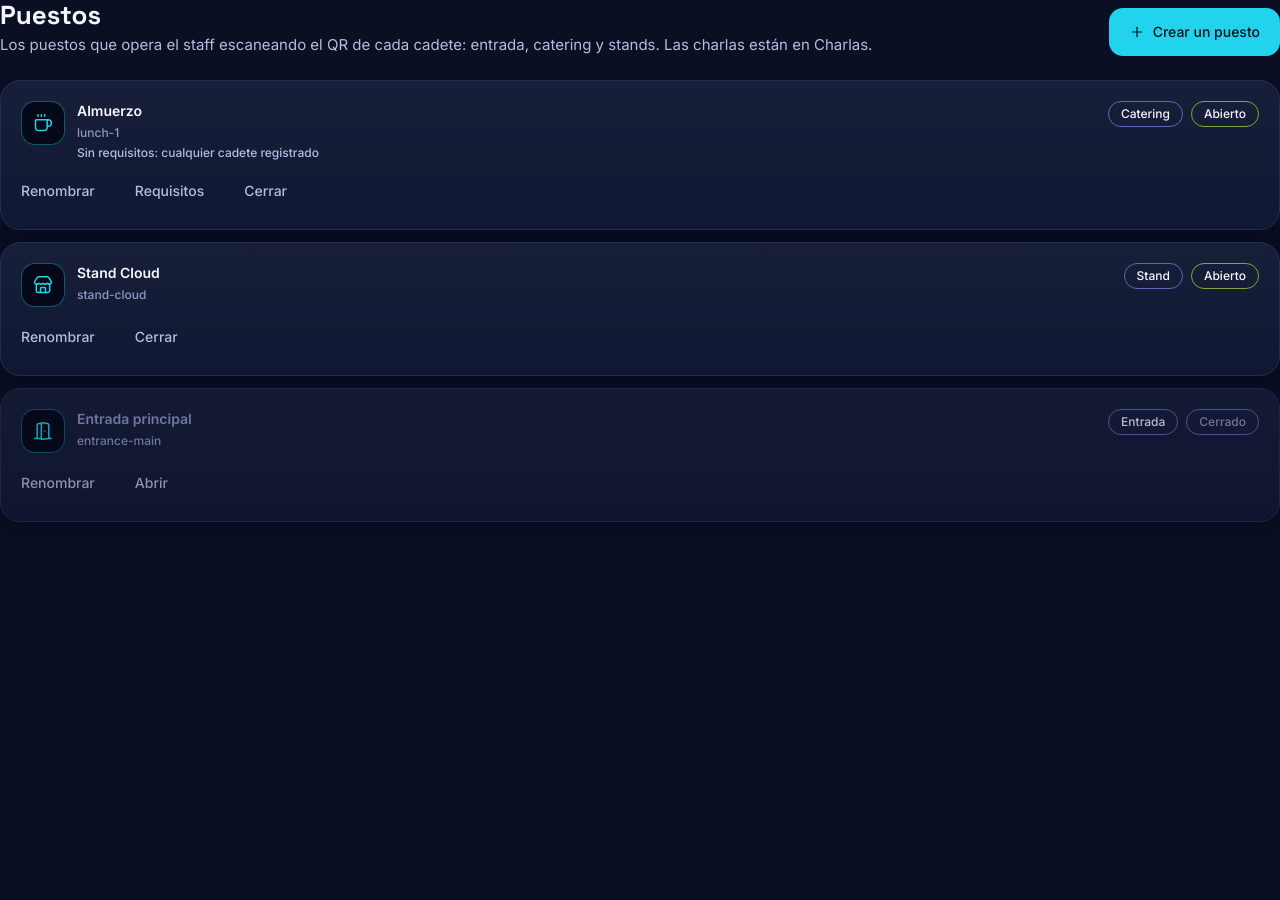
Scenario: CheckpointsAdminView food gates › saves a minimum level from the ladder and a minimum of talks
Click the button "Requisitos".
click(170, 191)  # box x1=119 y1=173 x2=220 y2=209
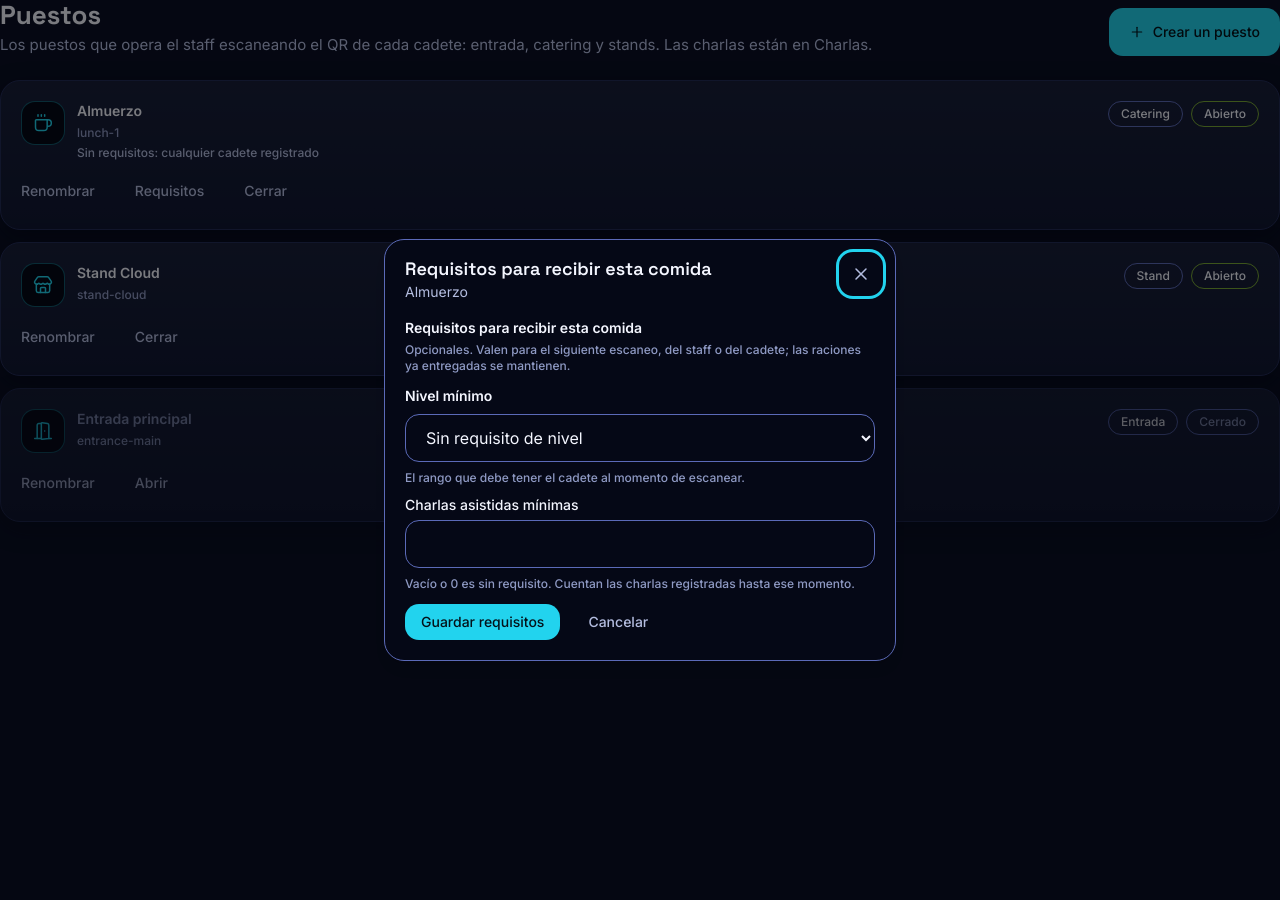
Select "Piloto (NV 2)" in the dropdown labelled "Nivel mínimo" at (640, 438), box x1=405 y1=414 x2=875 y2=462
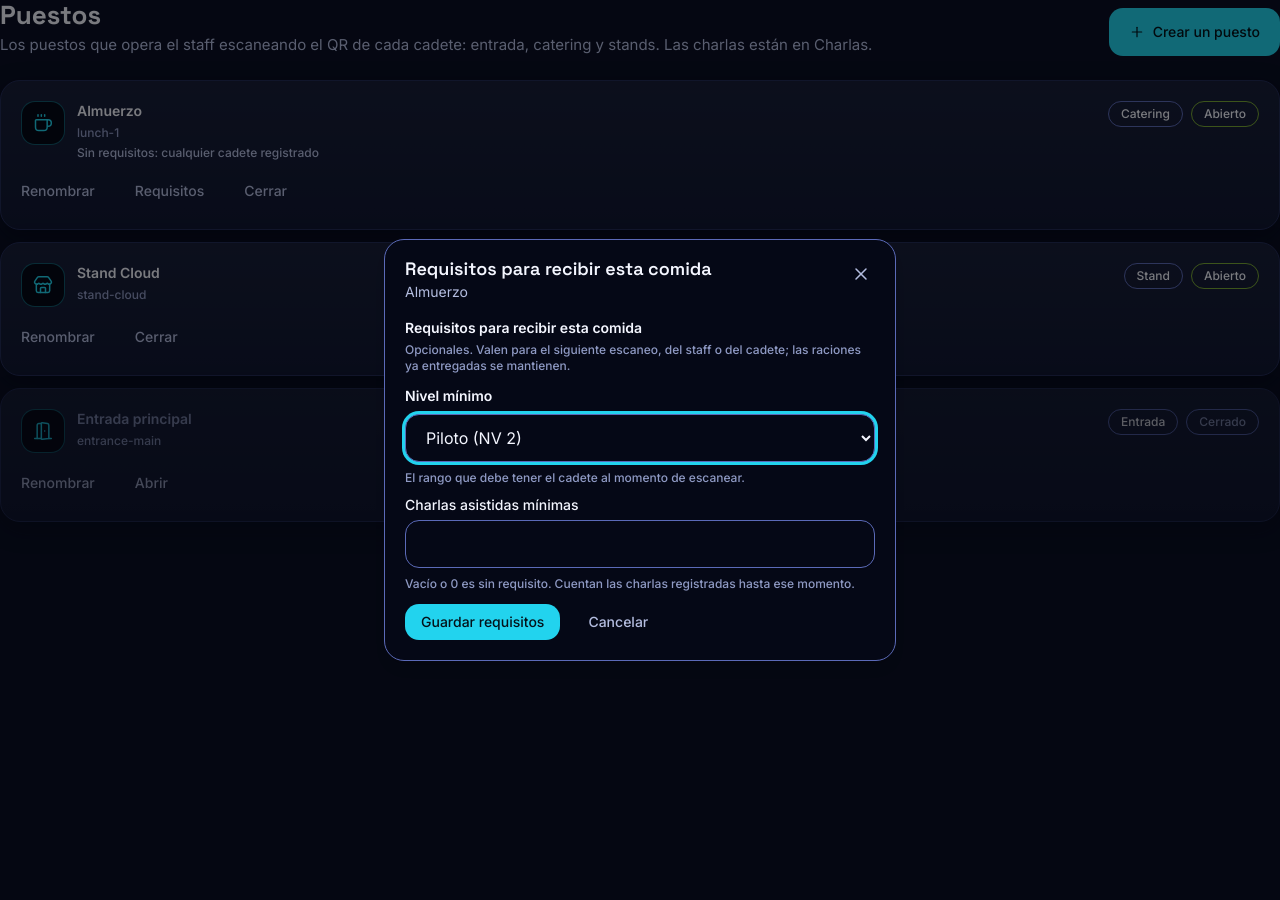
Type "3x" into the field labelled "Charlas asistidas mínimas".
click(640, 544); type("3x")  # box x1=405 y1=520 x2=875 y2=568
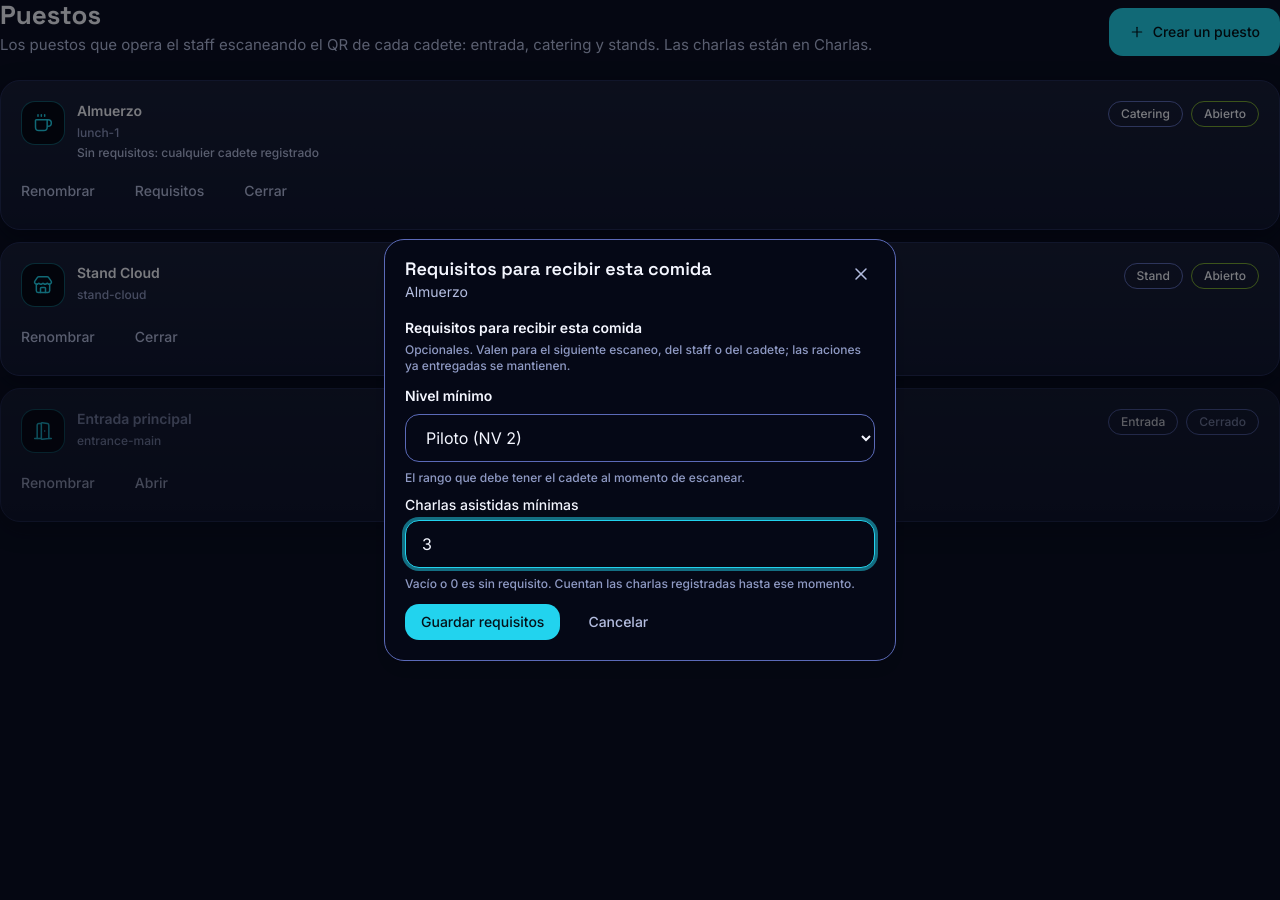
Click the button "Guardar requisitos".
click(483, 622)  # box x1=405 y1=604 x2=560 y2=640
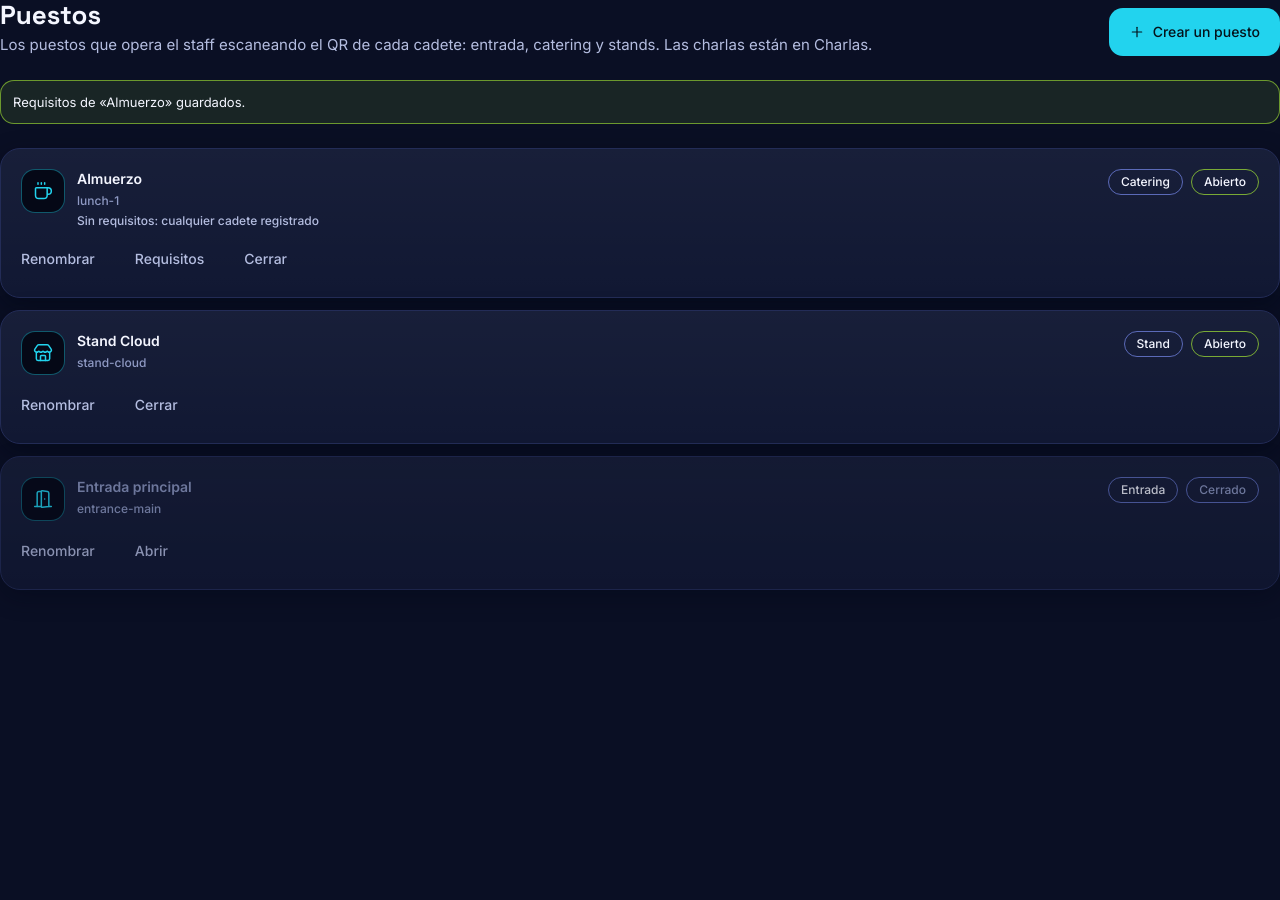
Now the message reads "Requisitos de «Almuerzo» guardados.", box x1=13 y1=94 x2=245 y2=110
Now the heading "Requisitos para recibir esta comida" is gone
